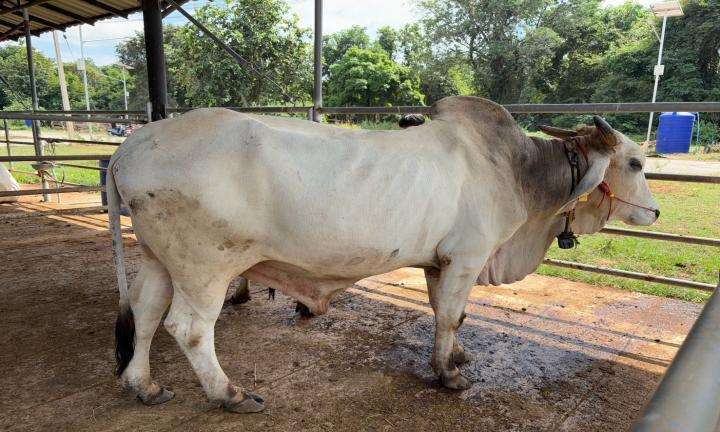Brahman: (107, 96, 659, 413)
